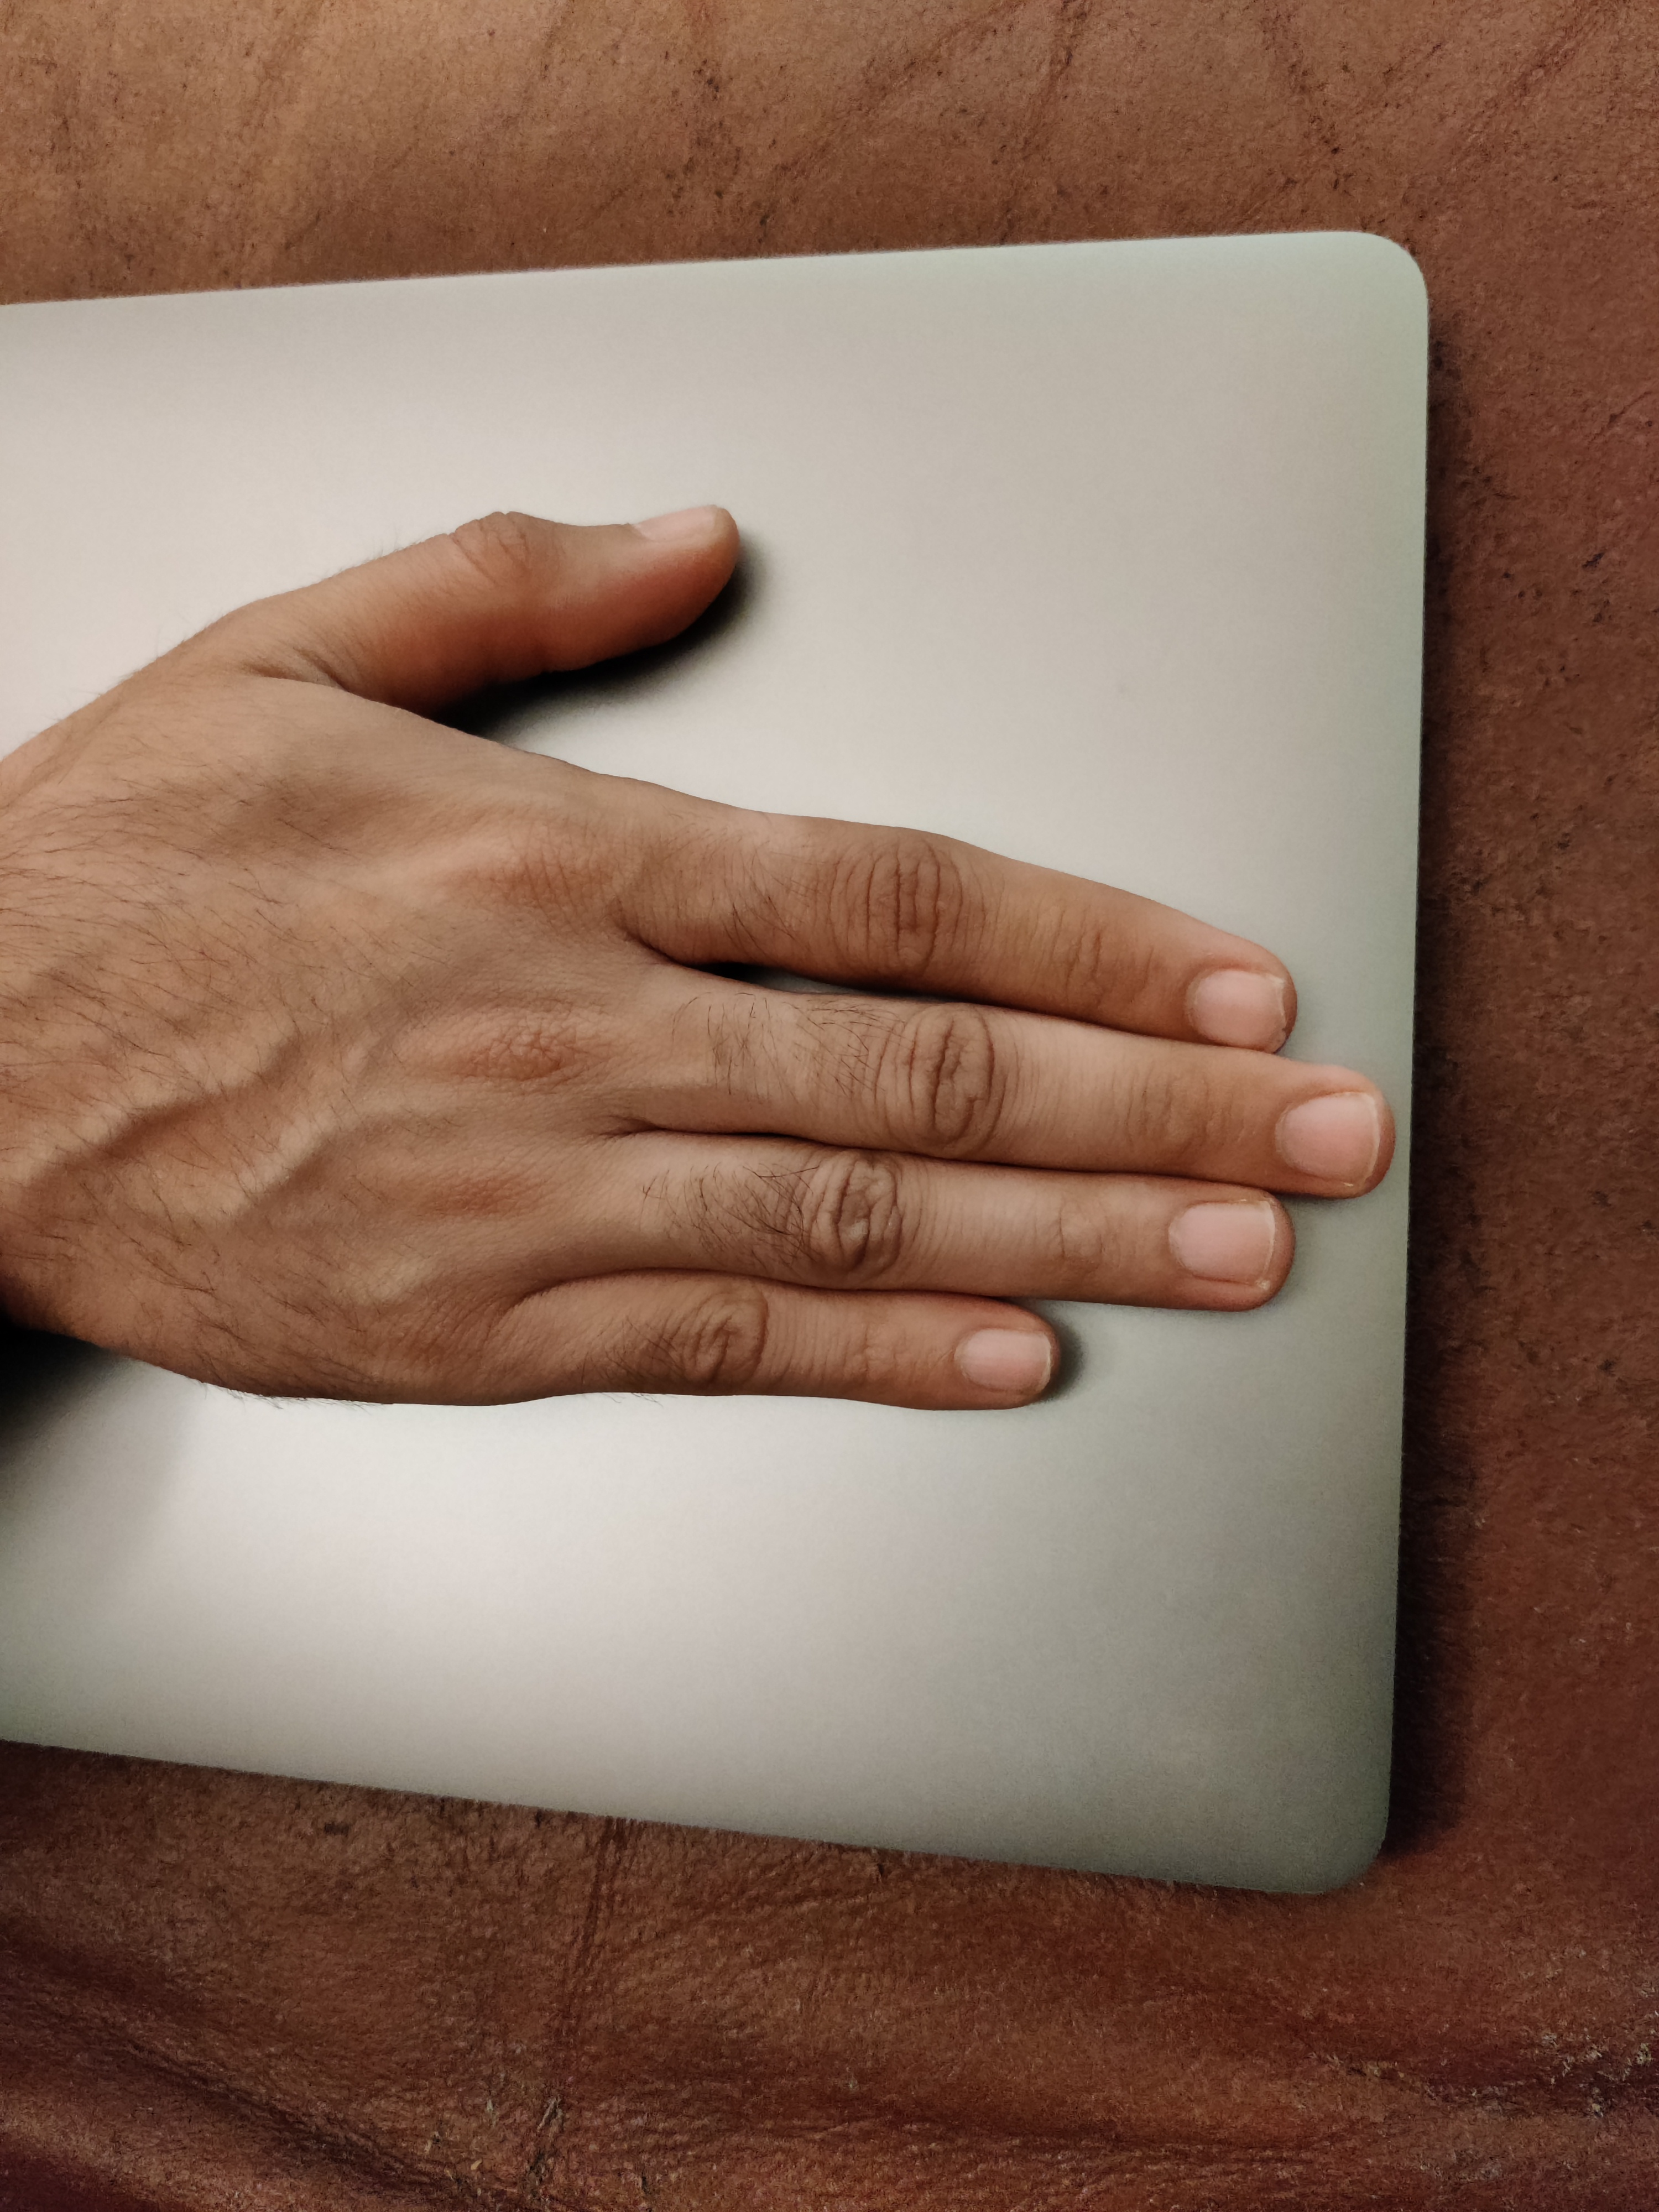left: (5, 235, 1493, 1519)
